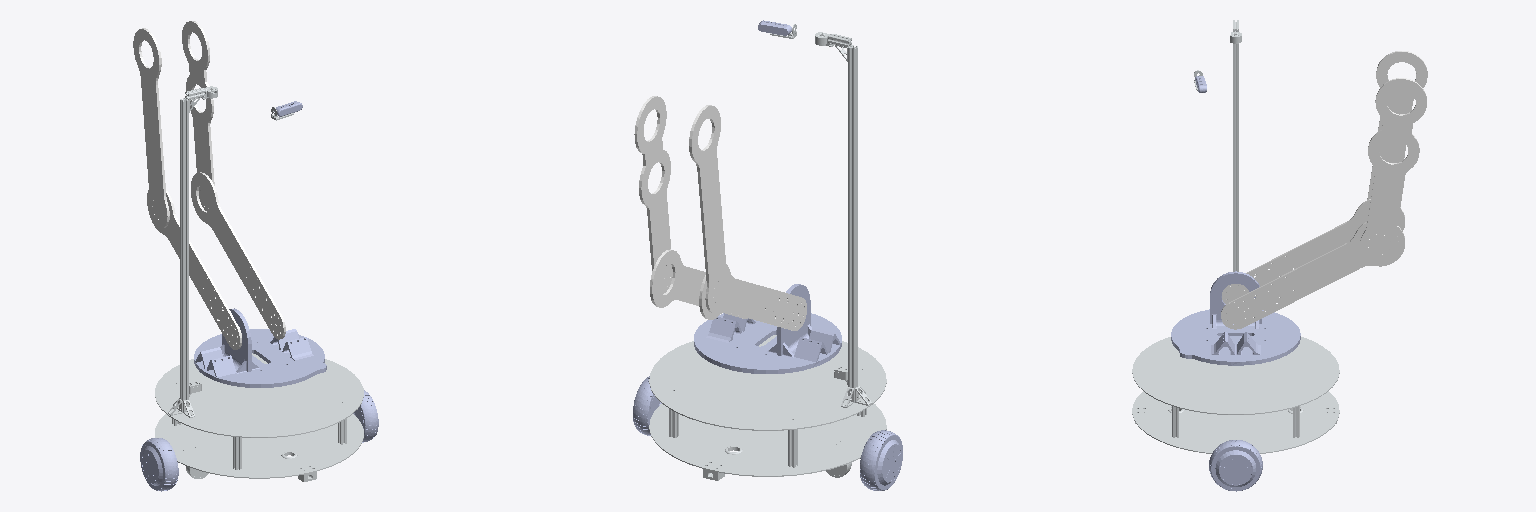
The robot description file, URDF, robot "boris":
<?xml version="1.0" encoding="utf-8"?>
<robot
  name="boris">
  <link
    name="base_link">
    <visual>
      <origin
        xyz="0 0 0"
        rpy="0 0 0" />
      <geometry>
        <mesh
          filename="package://boris/meshes/base_link.STL" />
      </geometry>
      <material
        name="">
        <color
          rgba="0.89804 0.91765 0.92941 1" />
      </material>
    </visual>
    <collision>
      <origin
        xyz="0 0 0"
        rpy="0 0 0" />
      <geometry>
        <mesh
          filename="package://boris/meshes/base_link.STL" />
      </geometry>
    </collision>
  </link>
  <link
    name="left_wheel_link">
    <inertial>
      <origin
        xyz="0.029855 -7.3899E-14 -7.2809E-06"
        rpy="0 0 0" />
      <mass
        value="0.95801" />
      <inertia
        ixx="0.0027027"
        ixy="-1.0148E-14"
        ixz="-3.8332E-07"
        iyy="0.0015853"
        iyz="4.4693E-16"
        izz="0.0015854" />
    </inertial>
    <visual>
      <origin
        xyz="0 0 0"
        rpy="0 0 0" />
      <geometry>
        <mesh
          filename="package://boris/meshes/left_wheel_link.STL" />
      </geometry>
      <material
        name="">
        <color
          rgba="0.79216 0.81961 0.93333 1" />
      </material>
    </visual>
    <collision>
      <origin
        xyz="0 0 0"
        rpy="0 0 0" />
      <geometry>
        <mesh
          filename="package://boris/meshes/left_wheel_link.STL" />
      </geometry>
    </collision>
  </link>
  <joint
    name="left_wheel_joint"
    type="continuous">
    <origin
      xyz="-0.3074 -1.02E-05 -0.017901"
      rpy="-3.1416 0 3.1416" />
    <parent
      link="base_link" />
    <child
      link="left_wheel_link" />
    <axis
      xyz="1 0 0" />
  </joint>
  <link
    name="right_wheel_link">
    <inertial>
      <origin
        xyz="0.029855 -7.3844E-14 -7.2809E-06"
        rpy="0 0 0" />
      <mass
        value="0.95801" />
      <inertia
        ixx="0.0027027"
        ixy="-1.0147E-14"
        ixz="-3.8332E-07"
        iyy="0.0015853"
        iyz="4.4944E-16"
        izz="0.0015854" />
    </inertial>
    <visual>
      <origin
        xyz="0 0 0"
        rpy="0 0 0" />
      <geometry>
        <mesh
          filename="package://boris/meshes/right_wheel_link.STL" />
      </geometry>
      <material
        name="">
        <color
          rgba="0.79216 0.81961 0.93333 1" />
      </material>
    </visual>
    <collision>
      <origin
        xyz="0 0 0"
        rpy="0 0 0" />
      <geometry>
        <mesh
          filename="package://boris/meshes/right_wheel_link.STL" />
      </geometry>
    </collision>
  </link>
  <joint
    name="right_wheel_joint"
    type="continuous">
    <origin
      xyz="0.3074 -1.02E-05 -0.017901"
      rpy="3.1416 0 0" />
    <parent
      link="base_link" />
    <child
      link="right_wheel_link" />
    <axis
      xyz="1 0 0" />
  </joint>
  <link
    name="camera_yaw_link">
    <inertial>
      <origin
        xyz="-1.3628E-14 -0.023656 0.01664"
        rpy="0 0 0" />
      <mass
        value="0.011452" />
      <inertia
        ixx="2.4909E-06"
        ixy="2.2797E-21"
        ixz="7.9409E-22"
        iyy="1.5057E-06"
        iyz="-2.0869E-08"
        izz="2.9229E-06" />
    </inertial>
    <visual>
      <origin
        xyz="0 0 0"
        rpy="0 0 0" />
      <geometry>
        <mesh
          filename="package://boris/meshes/camera_yaw_link.STL" />
      </geometry>
      <material
        name="">
        <color
          rgba="0.89804 0.91765 0.92941 1" />
      </material>
    </visual>
    <collision>
      <origin
        xyz="0 0 0"
        rpy="0 0 0" />
      <geometry>
        <mesh
          filename="package://boris/meshes/camera_yaw_link.STL" />
      </geometry>
    </collision>
  </link>
  <joint
    name="camera_yaw_ioint"
    type="continuous">
    <origin
      xyz="0 -0.10927 1.1284"
      rpy="1.5708 0 -1.4442" />
    <parent
      link="base_link" />
    <child
      link="camera_yaw_link" />
    <axis
      xyz="0 -1 0" />
  </joint>
  <link
    name="camera_tilt_link">
    <inertial>
      <origin
        xyz="0.0212599630854669 -0.0173483331606603 9.47173012137009E-05"
        rpy="0 0 0" />
      <mass
        value="0.0136650343598071" />
      <inertia
        ixx="1.44828626038017E-06"
        ixy="-2.08688729262852E-08"
        ixz="-4.90314729826696E-10"
        iyy="5.20651608944557E-06"
        iyz="3.83811804224605E-22"
        izz="4.83945196946737E-06" />
    </inertial>
    <visual>
      <origin
        xyz="0 0 0"
        rpy="0 0 0" />
      <geometry>
        <mesh
          filename="package://boris/meshes/camera_tilt_link.STL" />
      </geometry>
      <material
        name="">
        <color
          rgba="0.898039215686275 0.917647058823529 0.929411764705882 1" />
      </material>
    </visual>
    <collision>
      <origin
        xyz="0 0 0"
        rpy="0 0 0" />
      <geometry>
        <mesh
          filename="package://boris/meshes/camera_tilt_link.STL" />
      </geometry>
    </collision>
  </link>
  <joint
    name="camera_tilt_joint"
    type="continuous">
    <origin
      xyz="0 -0.043915 0.013263"
      rpy="0.03975 1.5708 0" />
    <parent
      link="camera_yaw_link" />
    <child
      link="camera_tilt_link" />
    <axis
      xyz="1 0 0" />
  </joint>
  <link
    name="camera_link">
    <inertial>
      <origin
        xyz="0.00024624 -6.0593E-05 -0.013048"
        rpy="0 0 0" />
      <mass
        value="0.044752" />
      <inertia
        ixx="3.9447E-06"
        ixy="-2.798E-09"
        ixz="2.4435E-07"
        iyy="2.7362E-05"
        iyz="-1.1787E-09"
        izz="2.7278E-05" />
    </inertial>
    <visual>
      <origin
        xyz="0 0 0"
        rpy="0 0 0" />
      <geometry>
        <mesh
          filename="package://boris/meshes/camera_link.STL" />
      </geometry>
      <material
        name="">
        <color
          rgba="0.79216 0.81961 0.93333 1" />
      </material>
    </visual>
    <collision>
      <origin
        xyz="0 0 0"
        rpy="0 0 0" />
      <geometry>
        <mesh
          filename="package://boris/meshes/camera_link.STL" />
      </geometry>
    </collision>
  </link>
  <joint
    name="camera_joint"
    type="fixed">
    <origin
      xyz="0.05255 -0.006823 -0.01495"
      rpy="-3.1416 0 -3.1416" />
    <parent
      link="camera_tilt_link" />
    <child
      link="camera_link" />
    <axis
      xyz="0 0 0" />
  </joint>
  <link
    name="shoulder_link">
    <inertial>
      <origin
        xyz="-0.01099 0.018295 0.00067864"
        rpy="0 0 0" />
      <mass
        value="1.8327" />
      <inertia
        ixx="0.015741"
        ixy="0.00114"
        ixz="-0.00016775"
        iyy="0.031474"
        iyz="1.4855E-05"
        izz="0.019166" />
    </inertial>
    <visual>
      <origin
        xyz="0 0 0"
        rpy="0 0 0" />
      <geometry>
        <mesh
          filename="package://boris/meshes/shoulder_link.STL" />
      </geometry>
      <material
        name="">
        <color
          rgba="0.79216 0.81961 0.93333 1" />
      </material>
    </visual>
    <collision>
      <origin
        xyz="0 0 0"
        rpy="0 0 0" />
      <geometry>
        <mesh
          filename="package://boris/meshes/shoulder_link.STL" />
      </geometry>
    </collision>
  </link>
  <joint
    name="shoulder_joint"
    type="continuous">
    <origin
      xyz="0 0 0.23735"
      rpy="1.5708 0 0" />
    <parent
      link="base_link" />
    <child
      link="shoulder_link" />
    <axis
      xyz="0 -1 0" />
  </joint>
  <link
    name="arm_link">
    <inertial>
      <origin
        xyz="0.260991127304886 -2.01384249129966E-05 -0.077129526614947"
        rpy="0 0 0" />
      <mass
        value="0.973437545788911" />
      <inertia
        ixx="0.000938924061097824"
        ixy="-1.8728113395928E-06"
        ixz="-1.17001838074258E-06"
        iyy="0.0279454336137837"
        iyz="1.08340990506014E-10"
        izz="0.0288743472817407" />
    </inertial>
    <visual>
      <origin
        xyz="0 0 0"
        rpy="0 0 0" />
      <geometry>
        <mesh
          filename="package://boris/meshes/arm_link.STL" />
      </geometry>
      <material
        name="">
        <color
          rgba="1 1 1 0.3" />
      </material>
    </visual>
    <collision>
      <origin
        xyz="0 0 0"
        rpy="0 0 0" />
      <geometry>
        <mesh
          filename="package://boris/meshes/arm_link.STL" />
      </geometry>
    </collision>
  </link>
  <joint
    name="arm_joint"
    type="continuous">
    <origin
      xyz="0.0635 0.102 0"
      rpy="1.5708 1.0601 1.5708" />
    <parent
      link="shoulder_link" />
    <child
      link="arm_link" />
    <axis
      xyz="0 0 1" />
  </joint>
  <link
    name="elbow_link">
    <inertial>
      <origin
        xyz="0.23857 2.5672E-07 0.070412"
        rpy="0 0 0" />
      <mass
        value="1.0102" />
      <inertia
        ixx="0.0011612"
        ixy="-3.8524E-08"
        ixz="-3.8993E-08"
        iyy="0.030213"
        iyz="-8.6429E-14"
        izz="0.031364" />
    </inertial>
    <visual>
      <origin
        xyz="0 0 0"
        rpy="0 0 0" />
      <geometry>
        <mesh
          filename="package://boris/meshes/elbow_link.STL" />
      </geometry>
      <material
        name="">
        <color
          rgba="1 1 1 0.3" />
      </material>
    </visual>
    <collision>
      <origin
        xyz="0 0 0"
        rpy="0 0 0" />
      <geometry>
        <mesh
          filename="package://boris/meshes/elbow_link.STL" />
      </geometry>
    </collision>
  </link>
  <joint
    name="elbow_joint"
    type="continuous">
    <origin
      xyz="0.4826 0 -0.007874"
      rpy="3.1416 0 0.92069" />
    <parent
      link="arm_link" />
    <child
      link="elbow_link" />
    <axis
      xyz="0 0 1" />
  </joint>
</robot>

--- Render facts (derived) ---
3 views of the same robot in one strip: view 1: azimuth 30°, elevation 25°; view 2: azimuth 150°, elevation 25°; view 3: azimuth 270°, elevation 25° (orthographic).
Model boris with 9 links and 8 joints (7 continuous, 1 fixed), rooted at base_link, posed all joints at 0.
Visible links, largest first — view 1: base_link, elbow_link, shoulder_link, arm_link, left_wheel_link, right_wheel_link; view 2: base_link, elbow_link, shoulder_link, arm_link, left_wheel_link, right_wheel_link; view 3: base_link, elbow_link, arm_link, shoulder_link, right_wheel_link.
Link boxes in pixels (box(x1,y1,x2,y2)): base_link: box(155, 86, 363, 481); elbow_link: box(133, 21, 214, 228); shoulder_link: box(194, 308, 326, 387); arm_link: box(147, 172, 285, 349); left_wheel_link: box(140, 438, 178, 491); right_wheel_link: box(353, 390, 378, 442); base_link: box(649, 32, 886, 480); elbow_link: box(634, 96, 729, 313); shoulder_link: box(694, 284, 841, 373); arm_link: box(650, 249, 806, 330); left_wheel_link: box(860, 430, 902, 490); right_wheel_link: box(633, 376, 661, 435); base_link: box(1132, 20, 1339, 453); elbow_link: box(1360, 51, 1427, 261); arm_link: box(1221, 199, 1404, 329); shoulder_link: box(1171, 271, 1300, 365); right_wheel_link: box(1209, 440, 1262, 491).
Bounding box of the posed robot: 0.7348 × 0.8681 × 1.25 m (x, y, z).
8 mesh visuals loaded from 9 distinct referenced files (8 binary STL); not drawn: 1 (reference not matched to a file when rendering).
